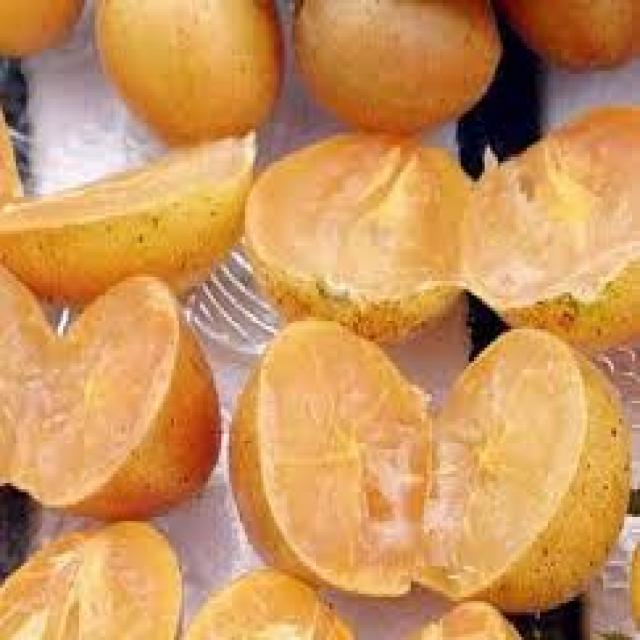organic waste: (421, 320, 627, 618), (224, 314, 432, 597), (18, 274, 218, 517), (242, 123, 461, 332), (458, 102, 638, 338), (3, 130, 250, 298), (295, 0, 503, 126), (97, 0, 281, 138), (2, 517, 182, 637), (179, 566, 353, 637), (0, 265, 50, 480), (492, 0, 638, 68), (406, 594, 522, 637), (0, 0, 87, 55), (630, 538, 638, 637)
